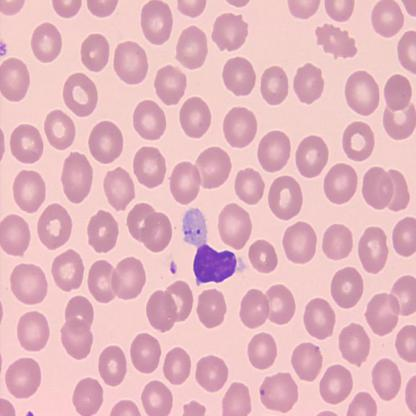Lymphocyte: (181, 206, 247, 288)
